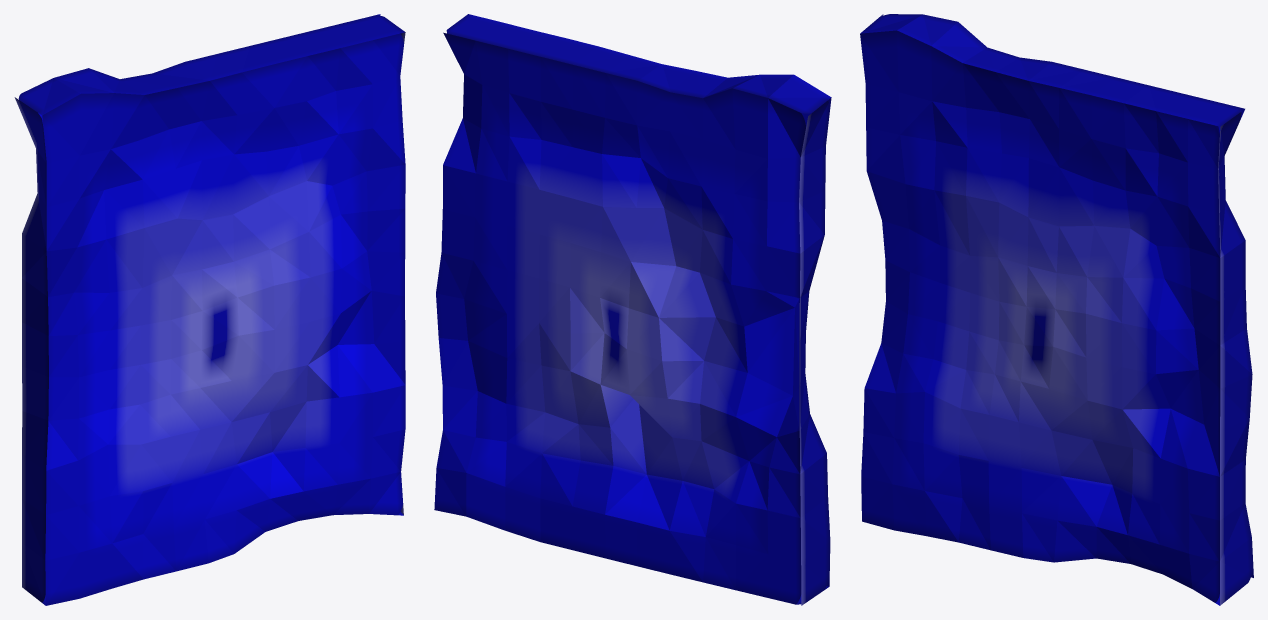
Rendered from blue_moongate_0777x11.obj.
3 renders of one model, left to right at view 1: azimuth 30°, elevation 25°; view 2: azimuth 150°, elevation 25°; view 3: azimuth 330°, elevation 25°, orthographic.
Parts seen in each view (by area): view 1: blue_moongate_0777x11; view 2: blue_moongate_0777x11; view 3: blue_moongate_0777x11.
Part boxes in pixels (bbox=[...]): blue_moongate_0777x11: bbox=[14, 14, 405, 605]; blue_moongate_0777x11: bbox=[434, 14, 831, 605]; blue_moongate_0777x11: bbox=[860, 14, 1253, 605].
Size of the model in its own units: 4.31 by 5.54 by 0.6508.
